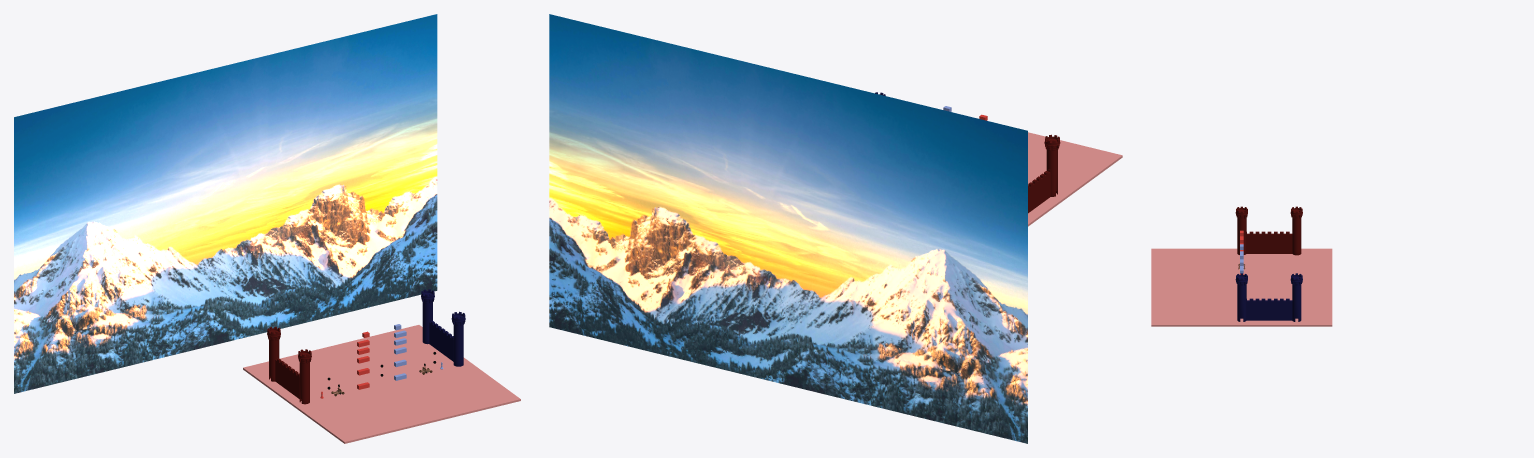
Rendered from level2.glb.
The picture shows the model from 3 angles, left to right: view 1: azimuth 30°, elevation 25°; view 2: azimuth 150°, elevation 25°; view 3: azimuth 270°, elevation 25°; orthographic projection. The views are drawn at different scales.
Visible parts, largest first — view 1: bg, Plane-ColVis, tower1.001, tower1, tower2.001, tower2; view 2: bg, Plane-ColVis, tower1; view 3: Plane-ColVis, wall2.001, wall2, tower2, tower1.001, tower2.001, wall1, wall1.001, tower1.
Part boxes in pixels (x1,y1,x2,y2): bg: (14, 14, 437, 393); Plane-ColVis: (243, 325, 520, 443); tower1.001: (451, 311, 465, 366); tower1: (298, 349, 311, 404); tower2.001: (421, 289, 434, 344); tower2: (267, 327, 280, 381); bg: (549, 14, 1027, 443); Plane-ColVis: (1028, 132, 1122, 226); tower1: (1044, 134, 1060, 196); Plane-ColVis: (1151, 248, 1332, 326); wall2.001: (1267, 298, 1292, 320); wall2: (1267, 231, 1292, 253); tower2: (1290, 206, 1302, 255); tower1.001: (1235, 273, 1247, 321); tower2.001: (1290, 273, 1302, 321); wall1: (1246, 231, 1267, 253); wall1.001: (1246, 298, 1267, 320); tower1: (1235, 206, 1247, 254).
Size of what is drawn, in the model's own units: 240 by 150 by 204.
Materials: 11 (4 with a texture image).
